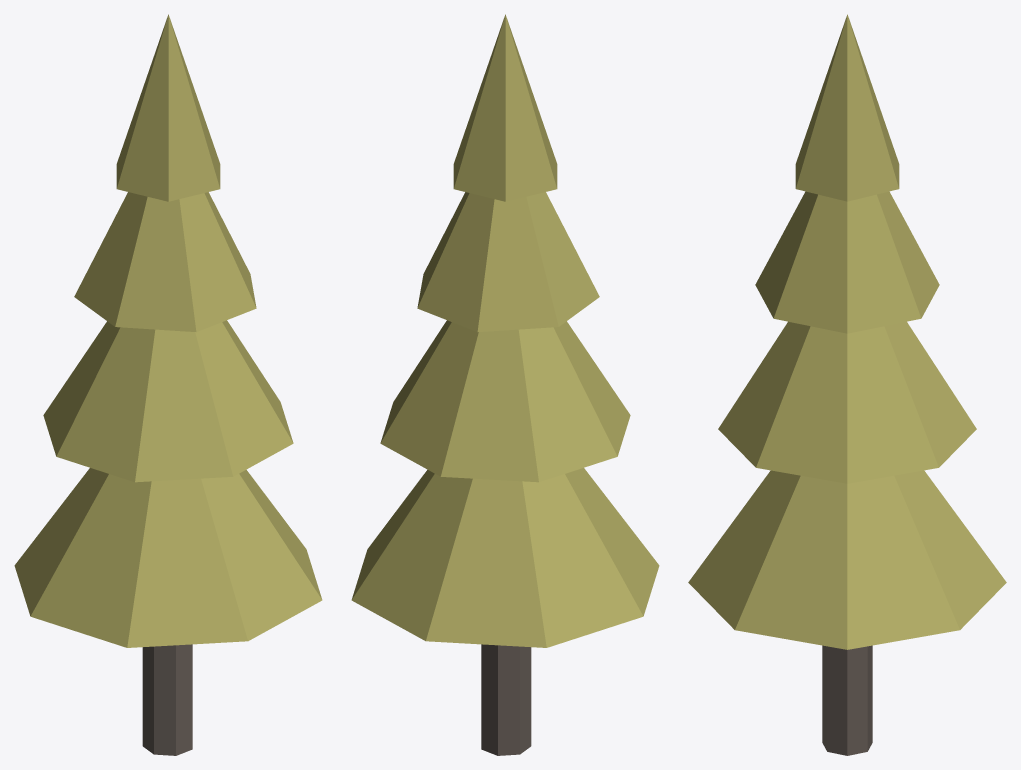
File: haunted_pine_mid.glb
3 views of the same model, side by side, from view 1: azimuth 30°, elevation 25°; view 2: azimuth 150°, elevation 25°; view 3: azimuth 270°, elevation 25° (orthographic).
Visible parts, largest first — view 1: Haunted_Pine_Mid; view 2: Haunted_Pine_Mid; view 3: Haunted_Pine_Mid.
Part boxes in pixels (x1,y1,x2,y2): Haunted_Pine_Mid: (14,14,322,755); Haunted_Pine_Mid: (351,14,659,755); Haunted_Pine_Mid: (688,14,1006,755).
Size of the model in its own units: 3.2 by 8.1 by 3.2.
